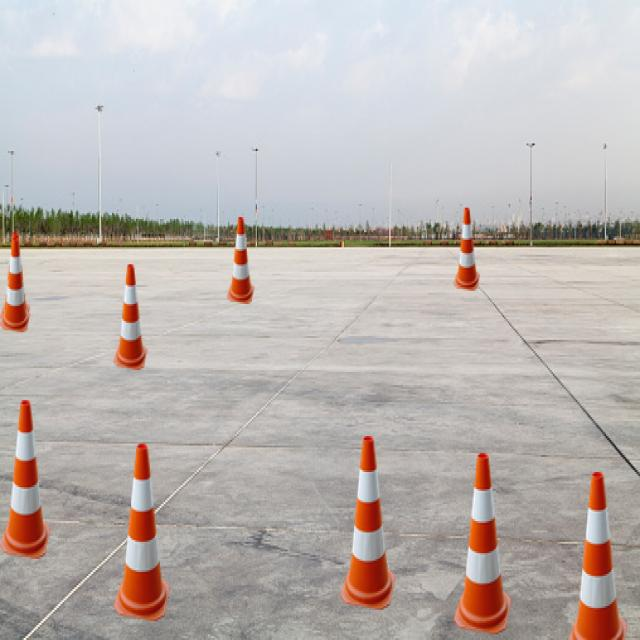large_orange_cone: (454, 453, 512, 634), (113, 444, 170, 621), (567, 472, 627, 640), (340, 436, 396, 610), (0, 400, 50, 558), (114, 264, 148, 370), (0, 238, 30, 332), (0, 232, 30, 325), (227, 217, 254, 304), (454, 208, 480, 290)
